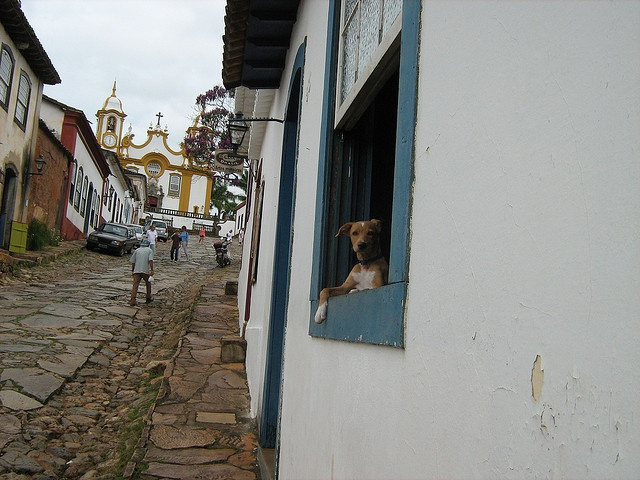non-vehicle: (214, 236, 232, 268), (168, 228, 173, 239)
